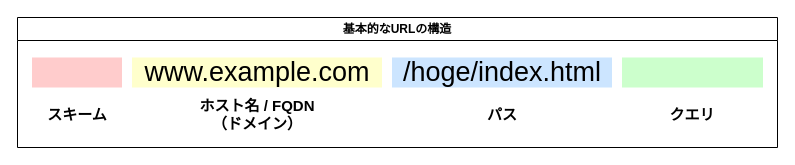
Image size: 795x165. Some labels were removed from this diagram. Here are the shapes that lost their labels. From the top down, the centre of each, then its label:
At [77,72]: "http://".
At [692,72]: "?param=1".
